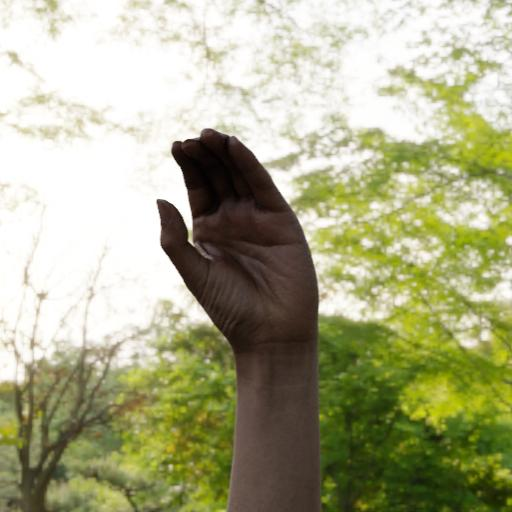C: (145, 121, 332, 367)
